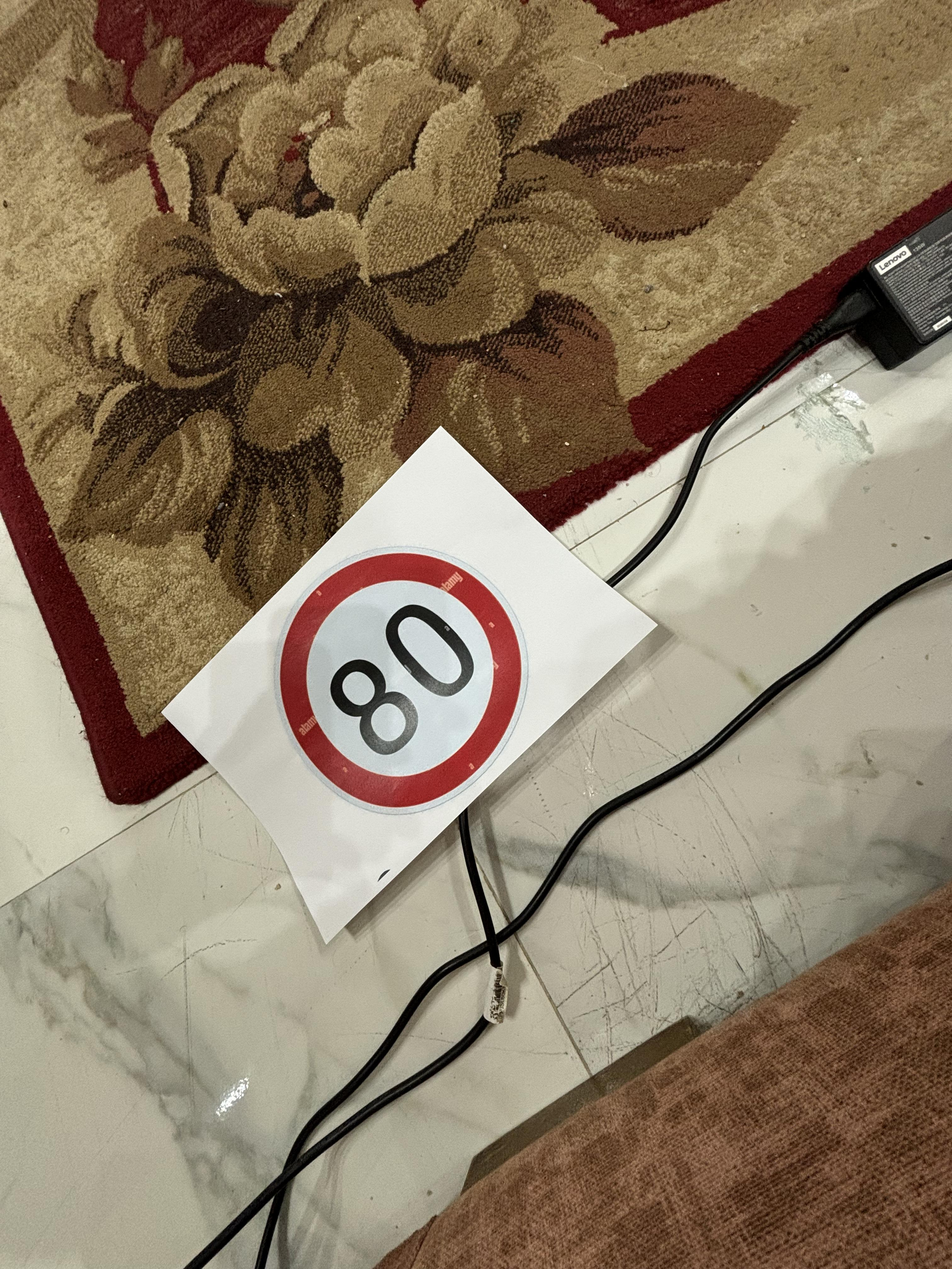80-Speed: (278, 542, 520, 810)
